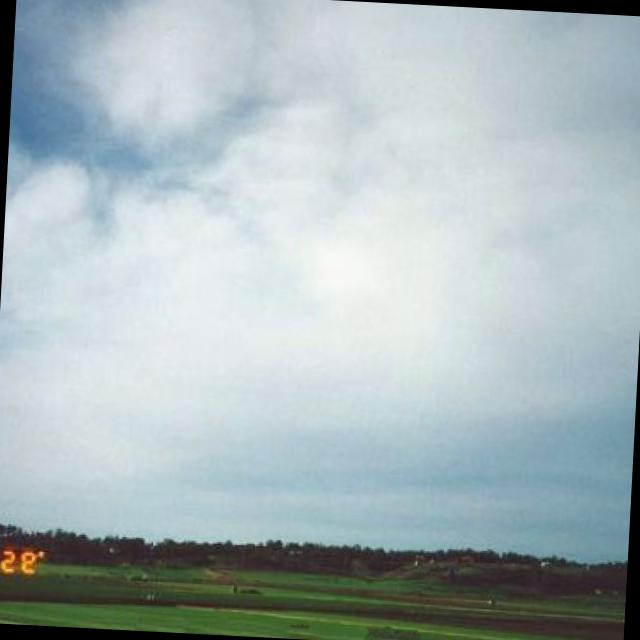Cs: (1, 1, 640, 402)
